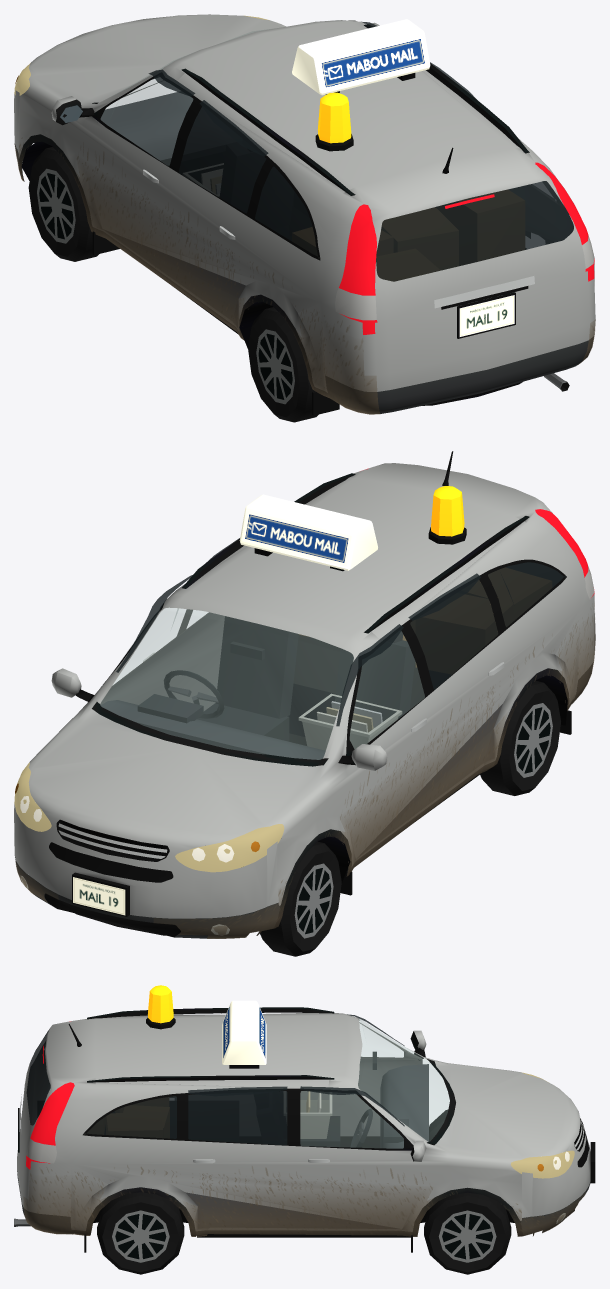
Rendered from mail-car-low.glb.
The picture shows the model from 3 angles, top to bottom: view 1: azimuth 30°, elevation 25°; view 2: azimuth 150°, elevation 25°; view 3: azimuth 270°, elevation 25°; orthographic projection. The views are drawn at different scales.
Parts seen in each view (by area): view 1: body_Body_paint, body_Matte, body_Rear_tint, body_Mud_overlay, sign_light, body_Front_glass, wheel_Matte_wheel_rl, wheel_Matte_wheel_fl, brake_left_upper, body_Sign_atlas, beacon, wheel_Alloy_wheel_rl (+2 smaller); view 2: body_Body_paint, body_Matte, body_Front_glass, body_Mud_overlay, body_Rear_tint, sign_light, wheel_Matte_wheel_rl, wheel_Matte_wheel_fl, body_Head_lamp, beacon, body_Sign_atlas, wheel_Alloy_wheel_fl (+2 smaller); view 3: body_Body_paint, body_Matte, body_Mud_overlay, body_Rear_tint, body_Front_glass, wheel_Matte_wheel_rr, wheel_Matte, driver_window, sign_light, wheel_Alloy_wheel_rr, wheel_Alloy, brake_right_upper (+2 smaller).
Boxes of the visible parts, x1,y1,x2,y2 form: body_Body_paint: (14,14,595,392); body_Matte: (14,20,594,415); body_Rear_tint: (148,21,573,281); body_Mud_overlay: (14,137,595,414); sign_light: (292,19,430,95); body_Front_glass: (101,29,266,165); wheel_Matte_wheel_rl: (248,307,318,422); wheel_Matte_wheel_fl: (28,147,98,261); brake_left_upper: (339,200,470,295); body_Sign_atlas: (459,295,514,336); beacon: (317,92,351,143); wheel_Alloy_wheel_rl: (256,329,294,404); body_Body_paint: (14,463,595,918); body_Matte: (14,451,594,938); body_Front_glass: (100,608,424,759); body_Mud_overlay: (15,603,595,938); body_Rear_tint: (116,538,565,726); sign_light: (239,494,377,570); wheel_Matte_wheel_rl: (480,681,560,795); wheel_Matte_wheel_fl: (260,841,341,956); body_Head_lamp: (14,762,284,872); beacon: (431,486,464,536); body_Sign_atlas: (73,877,125,915); wheel_Alloy_wheel_fl: (294,863,333,938); body_Body_paint: (14,1013,590,1231); body_Matte: (17,1007,595,1252); body_Mud_overlay: (23,1165,585,1236); body_Rear_tint: (26,1013,404,1145); body_Front_glass: (358,1019,449,1141); wheel_Matte_wheel_rr: (97,1192,184,1274); wheel_Matte: (424,1192,511,1274); driver_window: (300,1091,403,1148); sign_light: (222,1000,266,1064); wheel_Alloy_wheel_rr: (112,1210,169,1262); wheel_Alloy: (438,1210,496,1262); brake_right_upper: (30,1054,74,1145).
Size of the model in its own units: 2.29 by 1.96 by 4.67.
Materials: 9 (3 with a texture image).
